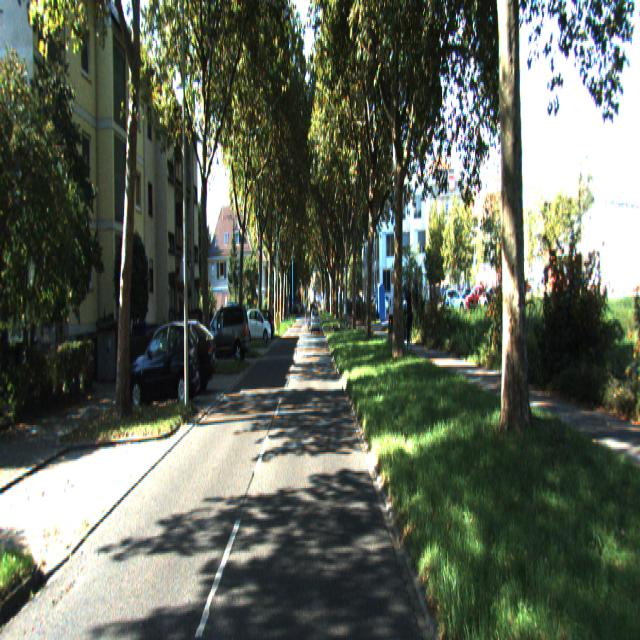Car: (127, 318, 203, 412), (202, 298, 251, 366), (245, 306, 272, 342)
